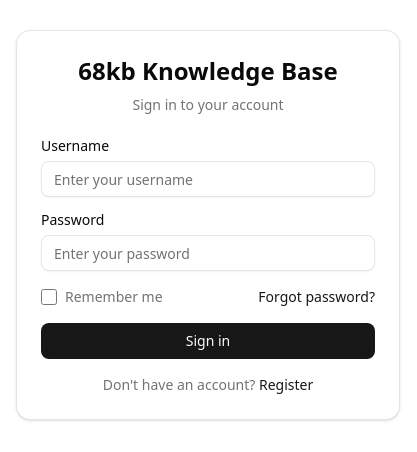
Test: LoginPage › shows validation error for empty password
Type "testuser" into the field labelled "Username".
click(208, 179); type("testuser")  # box [41,161,375,197]
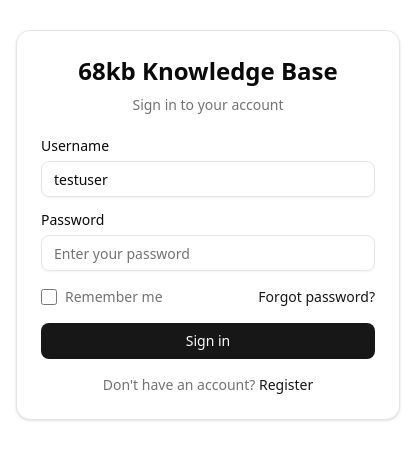
Click the button "Sign in".
click(208, 341)  # box [41,323,375,359]
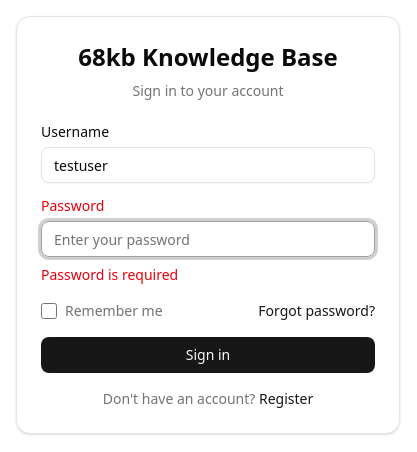
expect the text "Password is required" is shown: met, box [41,265,178,284]
